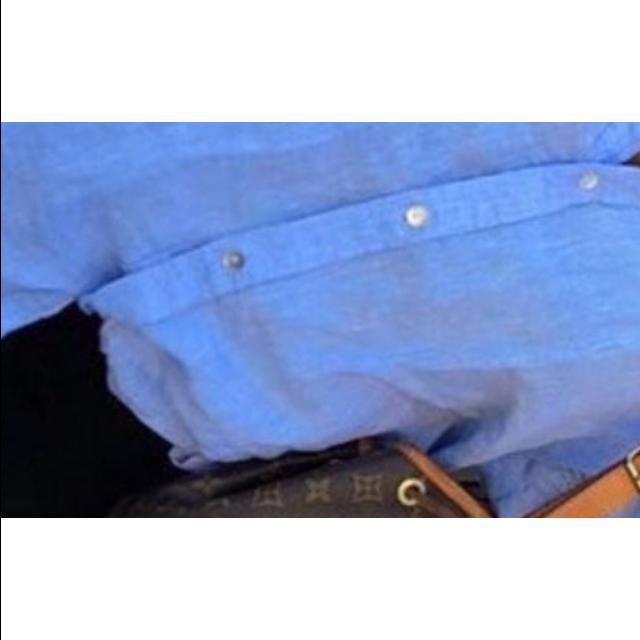linen: (120, 121, 640, 326)
